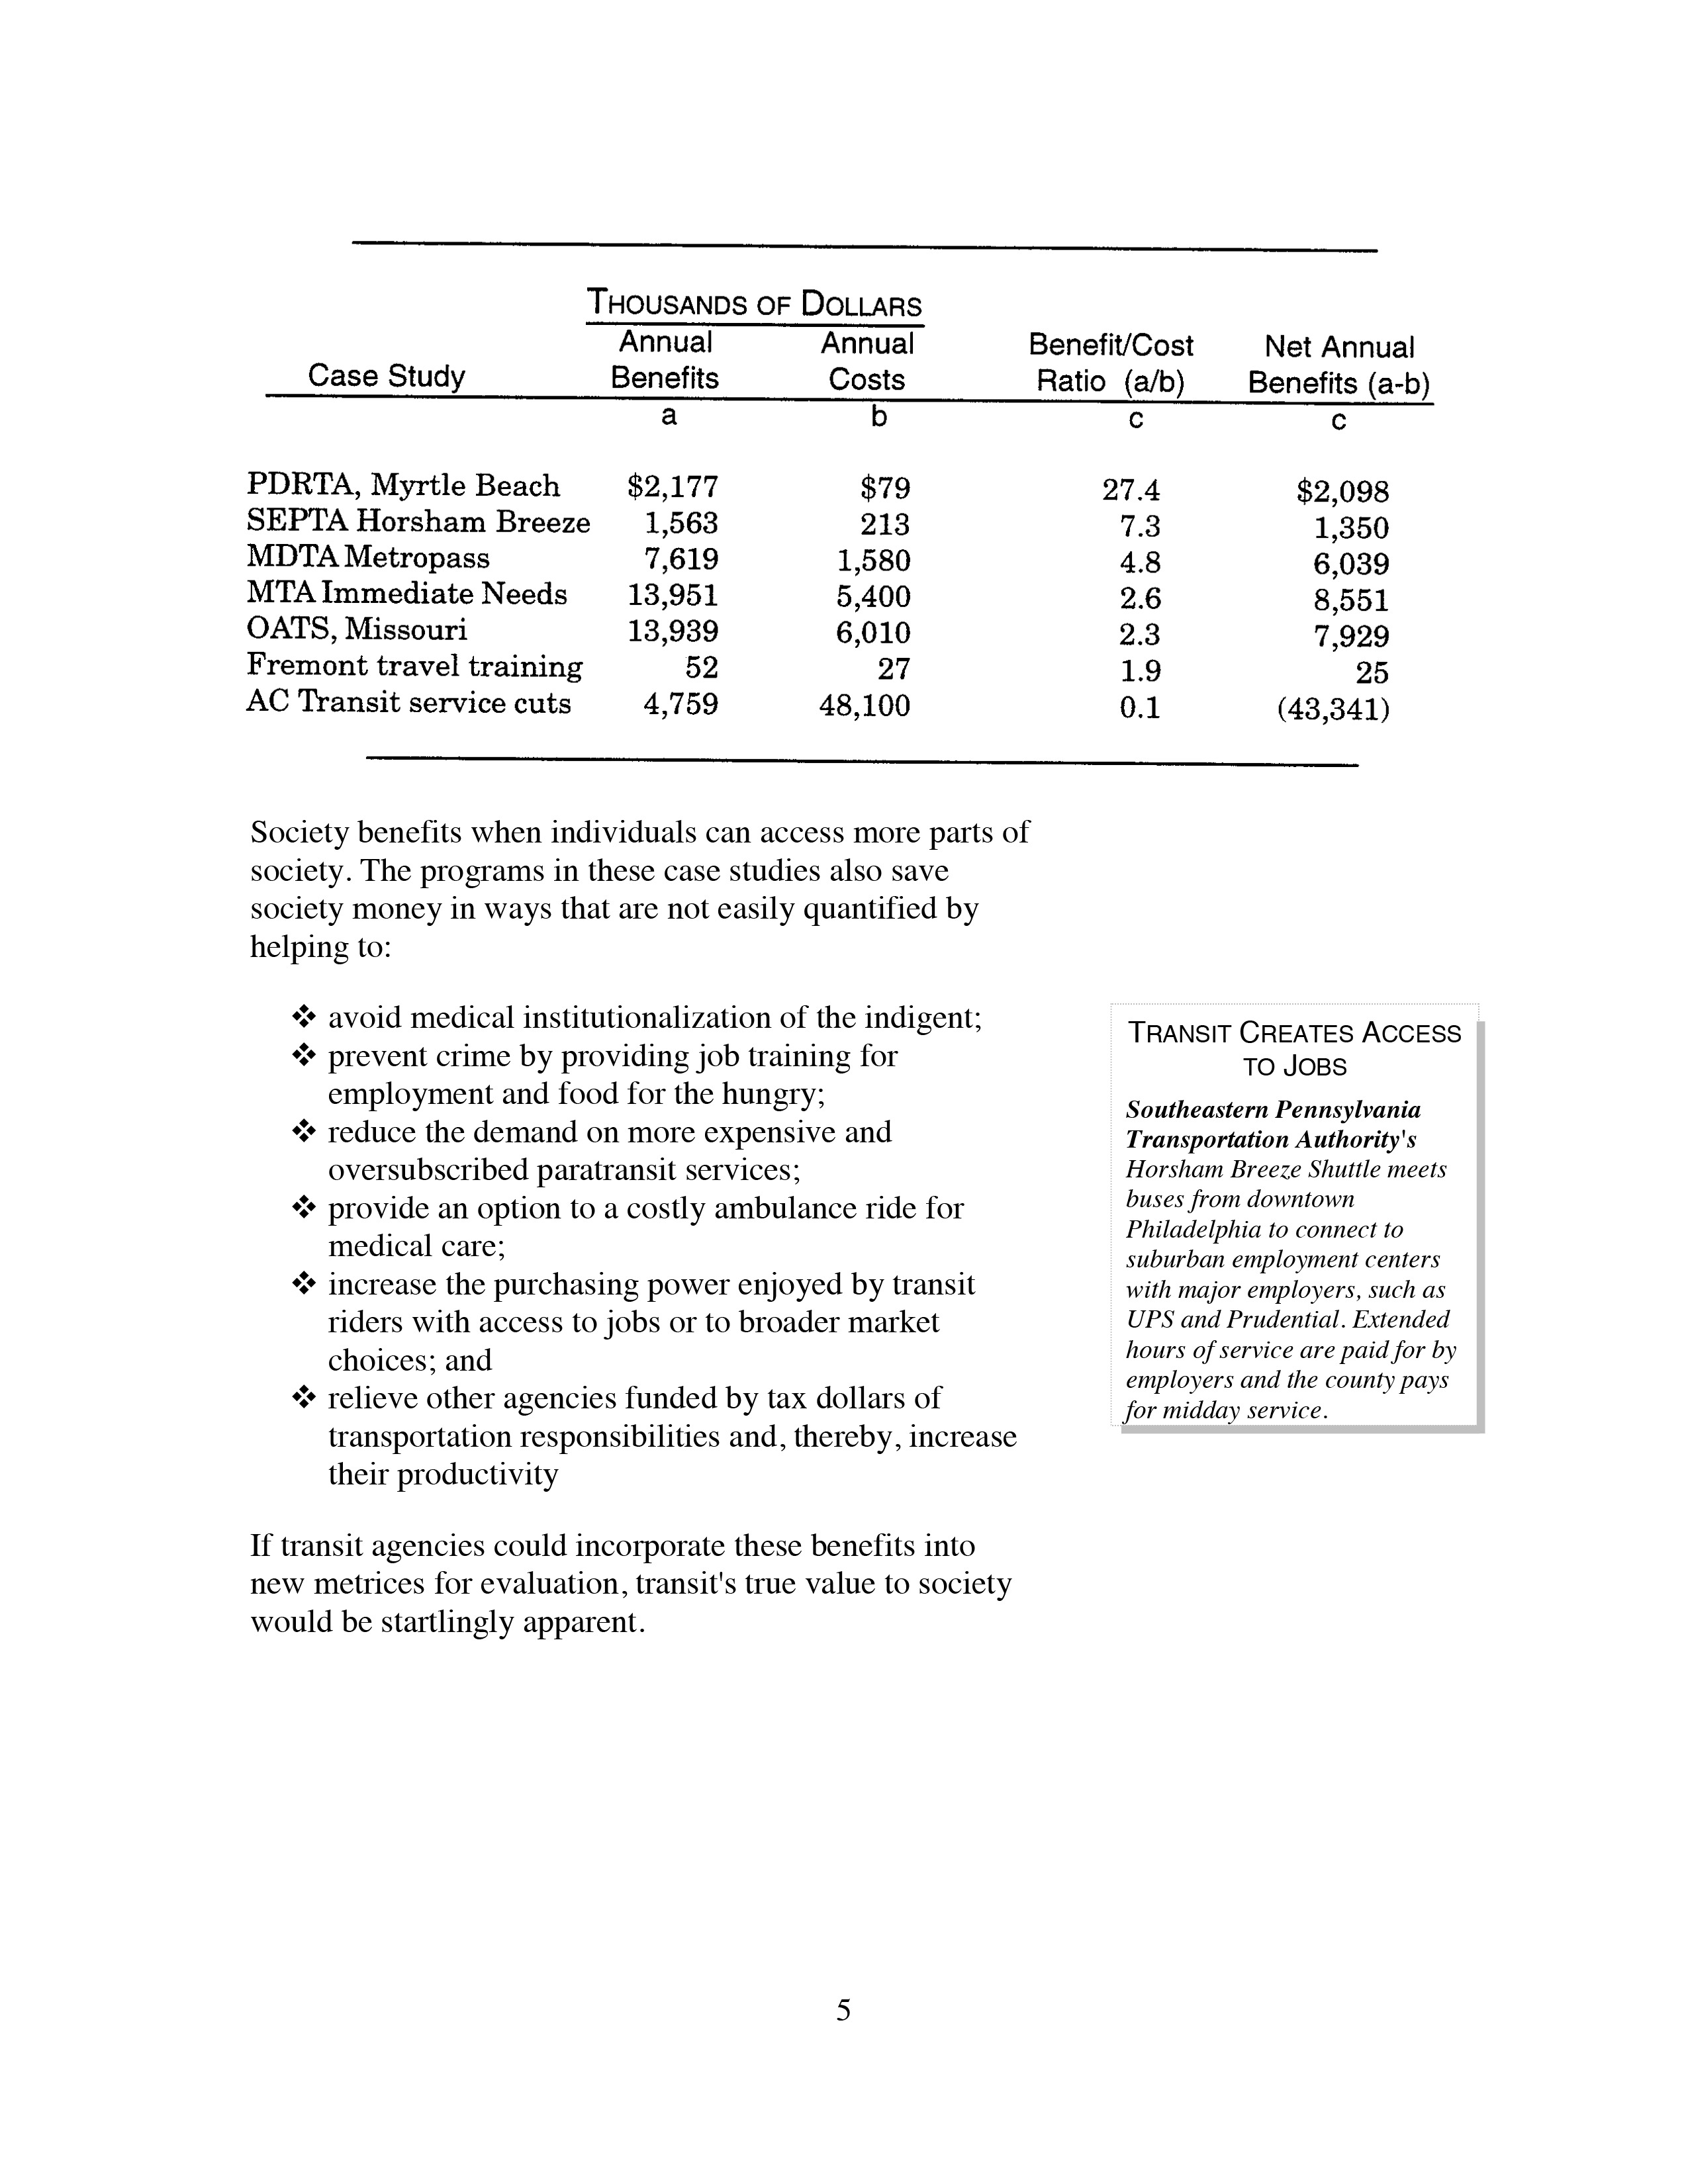list: (275, 998, 1011, 1491)
section: (1121, 1010, 1442, 1147)
table: (222, 264, 1450, 776)
text: (238, 815, 1048, 959), (1114, 1156, 1461, 1434), (254, 1533, 1005, 1645)
